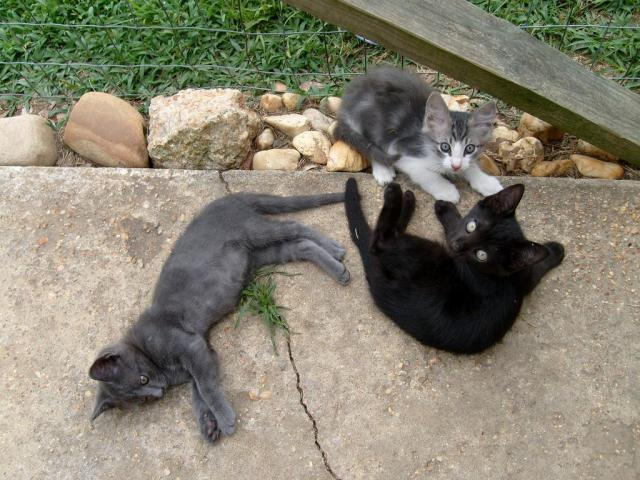Cat: (87, 187, 342, 446), (348, 175, 570, 358), (332, 64, 506, 202)
